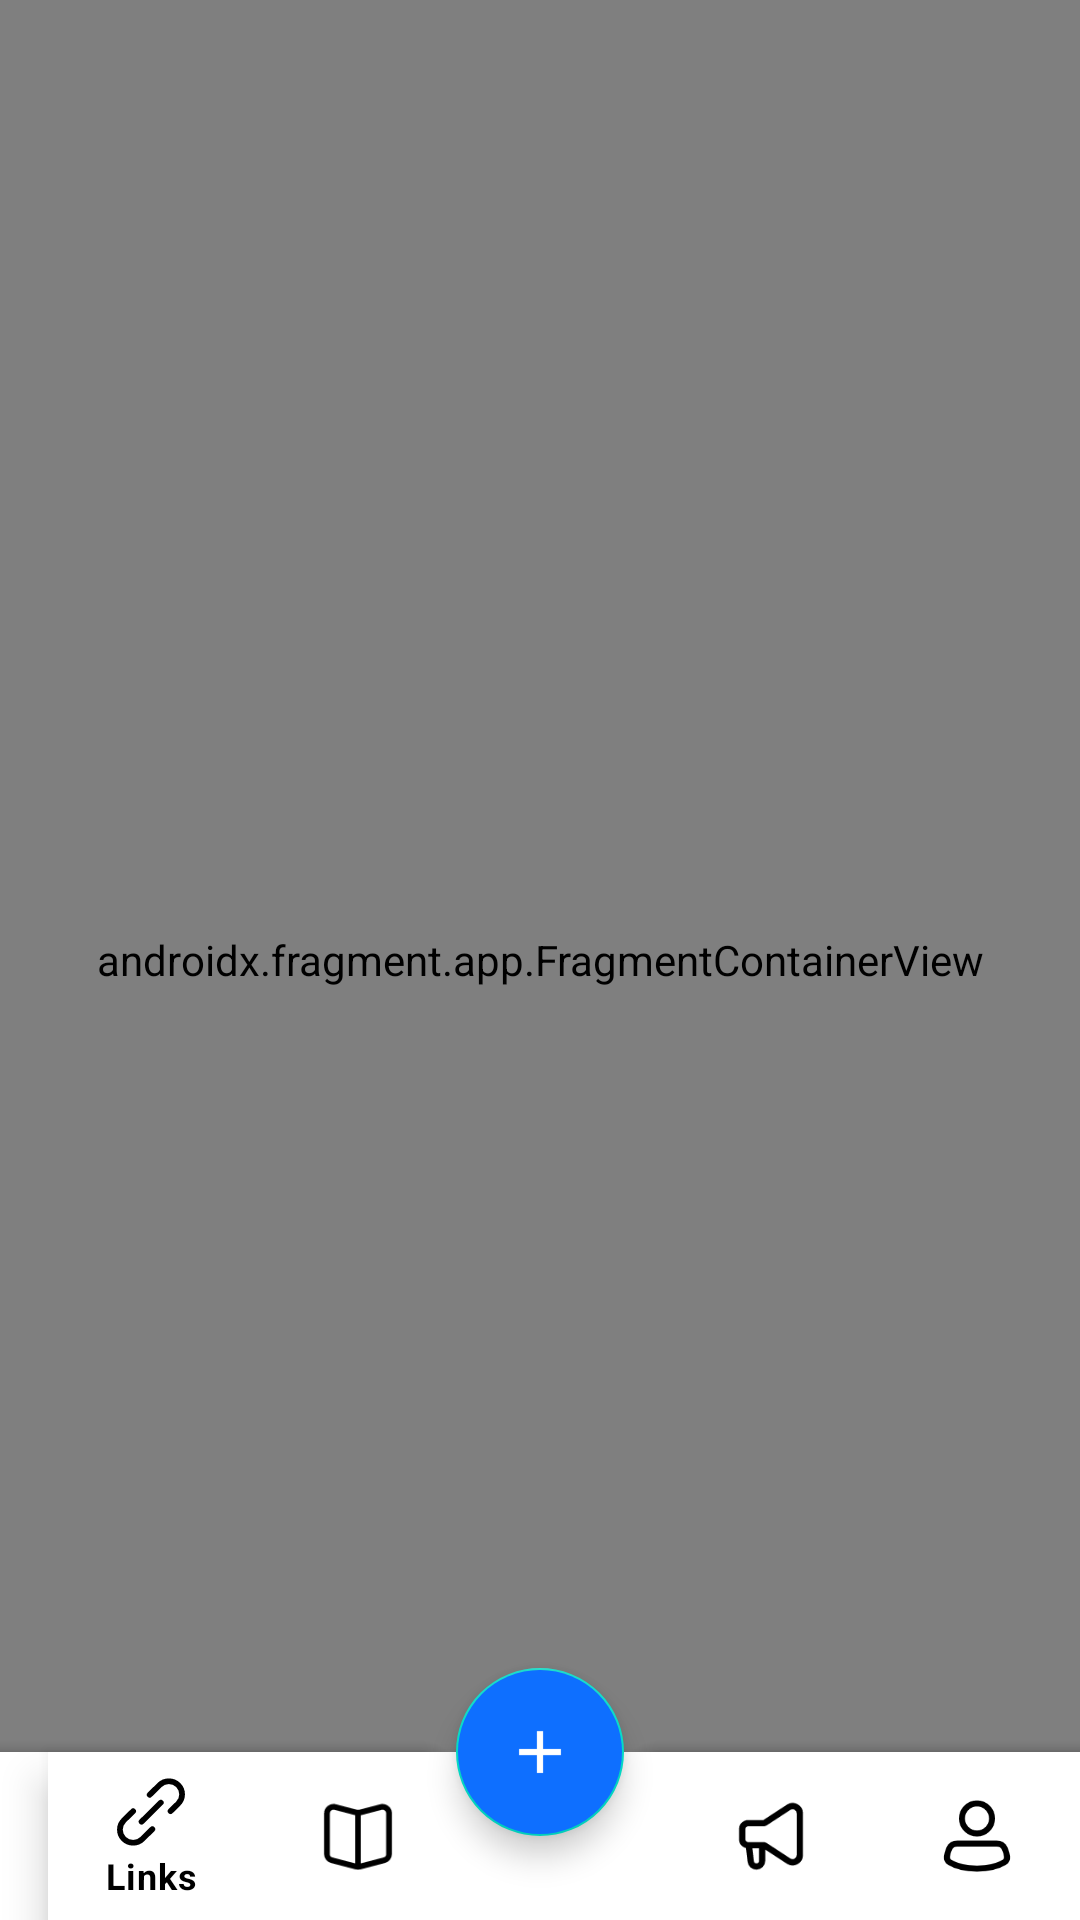

Icon click points for this 1080×1920 phone screenshot, format (x,y):
add: (540,1752)
